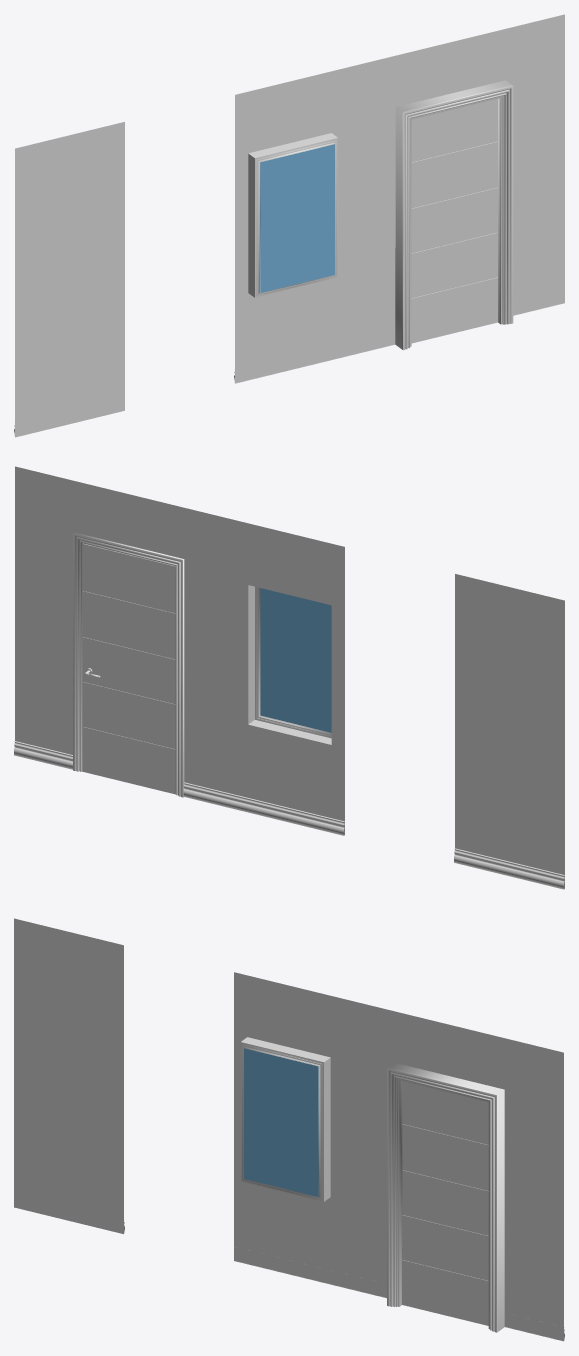
The model's file is flat-assets-ldjam-49.fbx.
The picture shows the model from 3 angles, top to bottom: view 1: azimuth 30°, elevation 25°; view 2: azimuth 150°, elevation 25°; view 3: azimuth 330°, elevation 25°; orthographic projection.
Parts seen in each view (by area): view 1: Plane.002, Plane.036, Plane.000, Plane, Plane.001; view 2: Plane.002, Plane.000, Plane.036, Plane.001; view 3: Plane.002, Plane.036, Plane.000, Plane, Plane.001.
Boxes of the visible parts, x1,y1,x2,y2 form: Plane.002: [345, 14, 564, 356]; Plane.036: [234, 68, 344, 383]; Plane.000: [14, 122, 124, 436]; Plane: [15, 295, 124, 437]; Plane.001: [260, 144, 334, 292]; Plane.002: [14, 466, 234, 808]; Plane.000: [454, 574, 564, 889]; Plane.036: [234, 520, 344, 835]; Plane.001: [260, 588, 331, 732]; Plane.002: [344, 999, 564, 1341]; Plane.036: [234, 972, 343, 1287]; Plane.000: [14, 918, 124, 1233]; Plane: [14, 1092, 123, 1234]; Plane.001: [244, 1048, 318, 1196].
Size of the model in its own units: 500 by 251 by 18.75.
